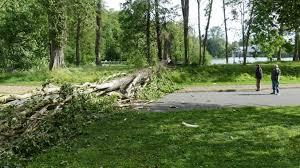Downstairs: (2, 59, 173, 155)
